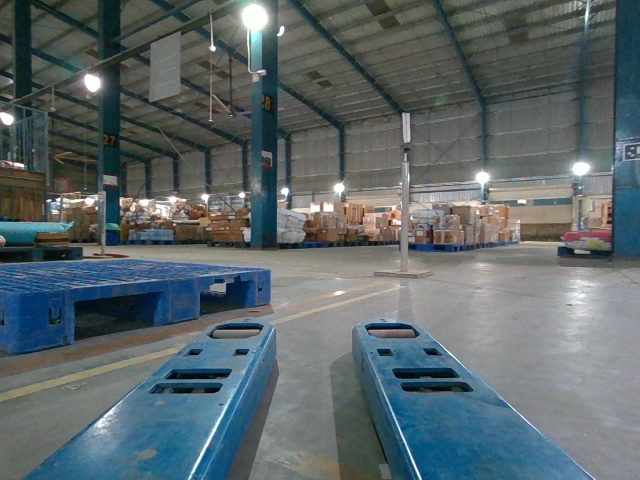block: (14, 286, 77, 356), (156, 276, 202, 327), (252, 270, 271, 304)
front: (17, 270, 270, 352)
hole pallet: (72, 288, 168, 342), (197, 278, 254, 318)
